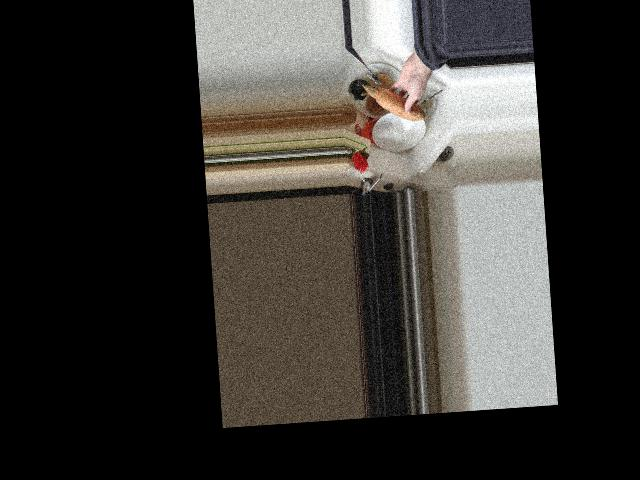sweet_potato: (363, 78, 426, 126)
